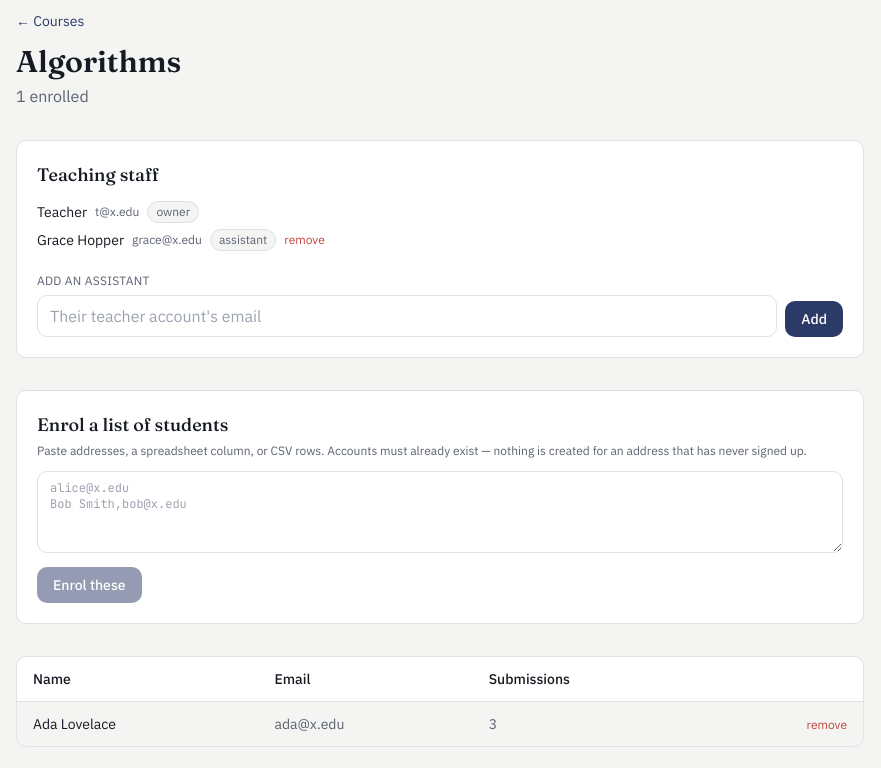
Test: teaching staff and roster import (v2.3.0) › names the addresses that had no account rather than counting them
Type "ada@x.edu ghost@x.edu" into the text box named "enrol a list of students".
click(440, 512); type("ada@x.edu ghost@x.edu")  # box [37, 471, 843, 553]
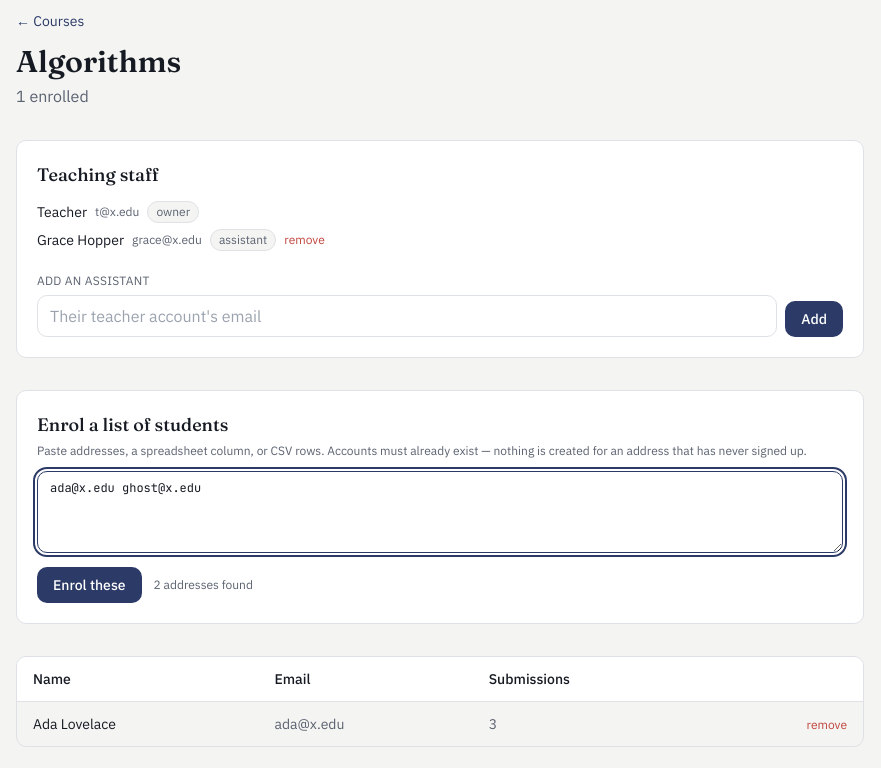
Click the button "Enrol these".
click(89, 585)  # box [37, 567, 142, 603]
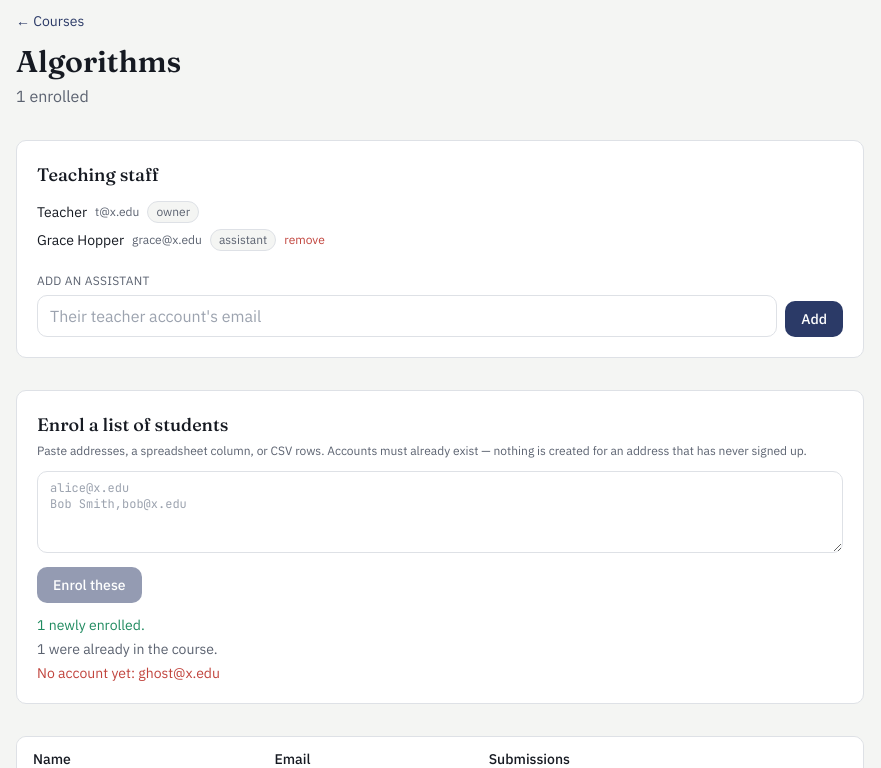
Check: the text "No account yet: ghost@x.edu" is shown, box [37, 664, 220, 682]
